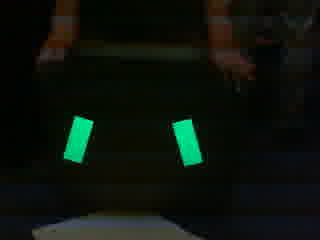target: (62, 112, 207, 168)
